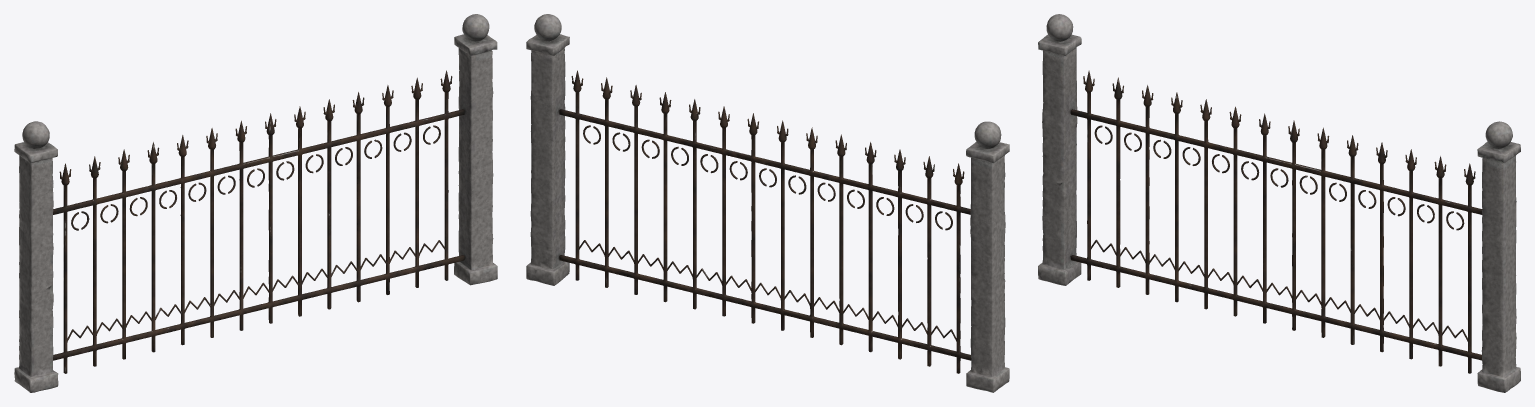
Rendered from iron_fence.glb.
The picture shows the model from 3 angles, left to right: view 1: azimuth 30°, elevation 25°; view 2: azimuth 150°, elevation 25°; view 3: azimuth 330°, elevation 25°; orthographic projection.
Visible parts, largest first — view 1: Fence_Iron, Fence_Pillars; view 2: Fence_Iron, Fence_Pillars; view 3: Fence_Iron, Fence_Pillars.
Boxes of the visible parts, left/top/right/bottom form: Fence_Iron: left=53, top=70, right=464, bottom=373; Fence_Pillars: left=14, top=14, right=497, bottom=392; Fence_Iron: left=559, top=70, right=971, bottom=373; Fence_Pillars: left=526, top=14, right=1009, bottom=392; Fence_Iron: left=1070, top=70, right=1482, bottom=373; Fence_Pillars: left=1038, top=14, right=1520, bottom=392.
Bounding box in the file's own units: 3.2 × 1.71 × 0.1963.
Materials: 1 (1 with a texture image).
